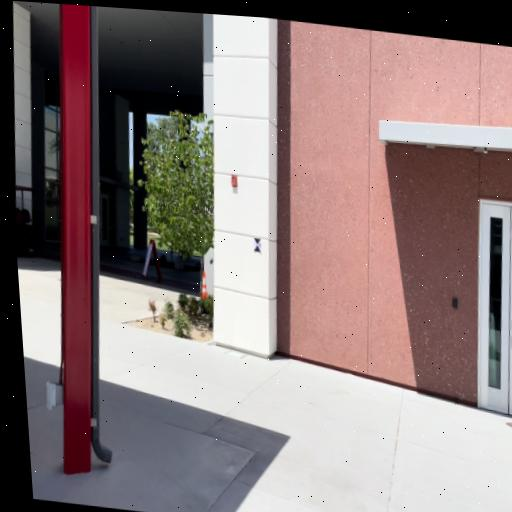target9: (254, 238, 262, 254)
